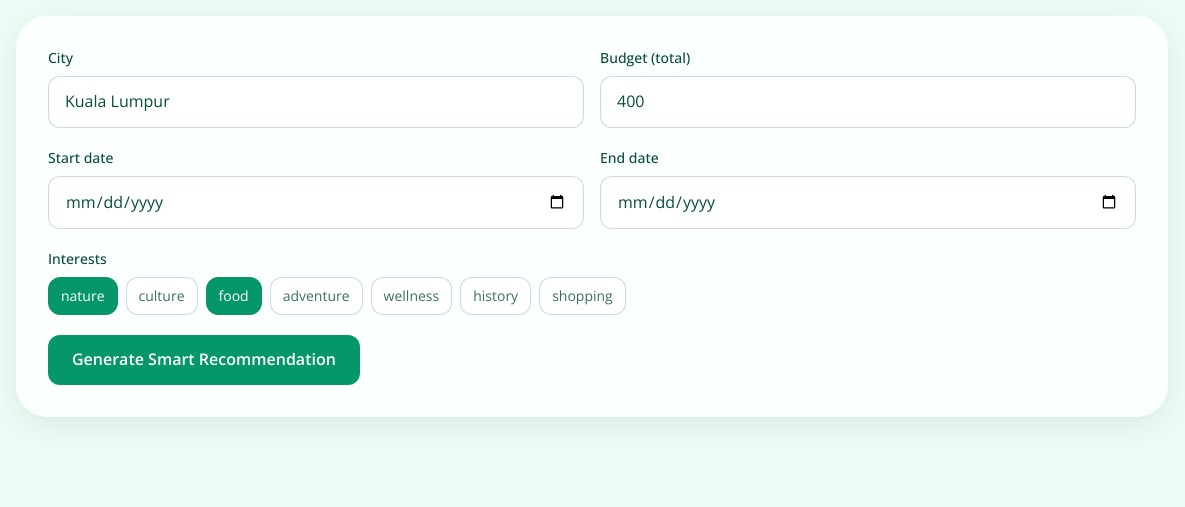
Test case: SmartRecommendationSection › renders API errors from failed recommendation responses
The width and height of the screenshot is (1185, 507).
Replace the text in the field labelled "City" with "Kyoto" at (316, 102), box [48,76,584,128]
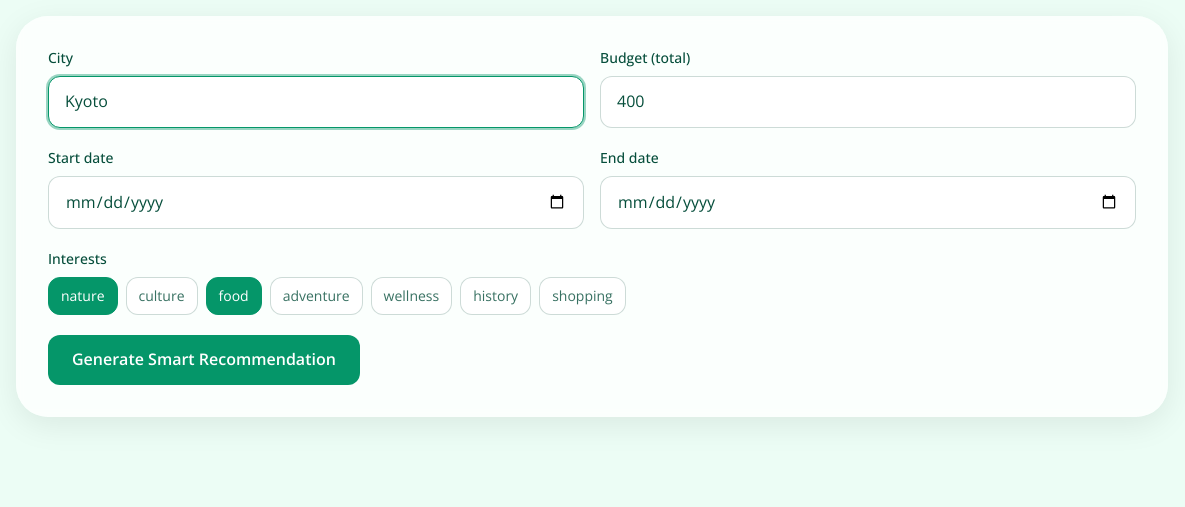
Type "2026-06-20" into the date field labelled "Start date".
click(316, 202); type("2026-06-20")  # box [48,176,584,229]
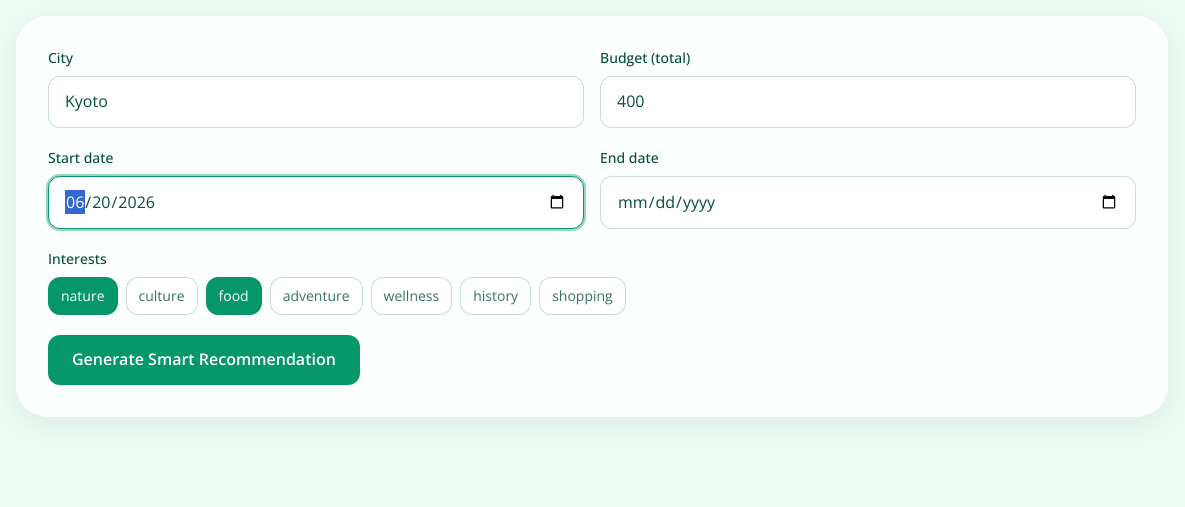
Type "2026-06-22" into the date field labelled "End date".
click(868, 202); type("2026-06-22")  # box [600,176,1136,229]
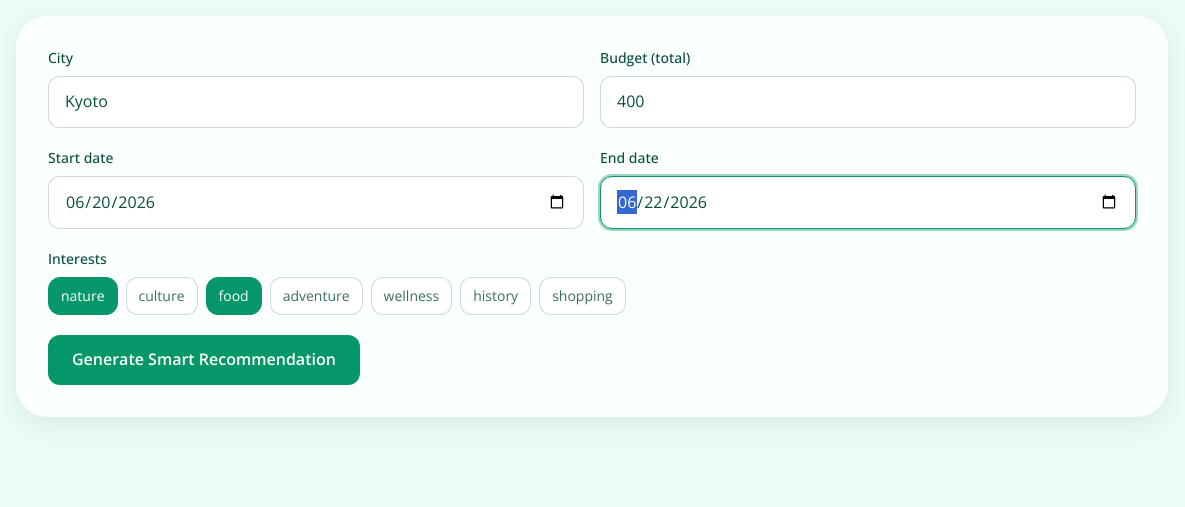
Click the button "Generate Smart Recommendation".
click(204, 360)  # box [48,335,360,385]
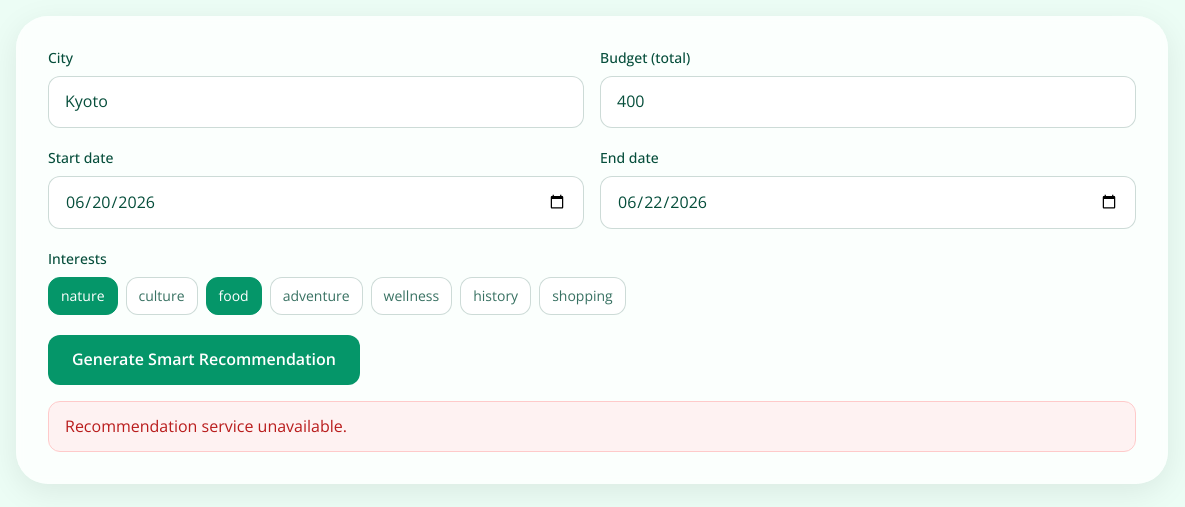
Result: the text "Recommendation service unavailable." is shown at [48,401,1136,452]
